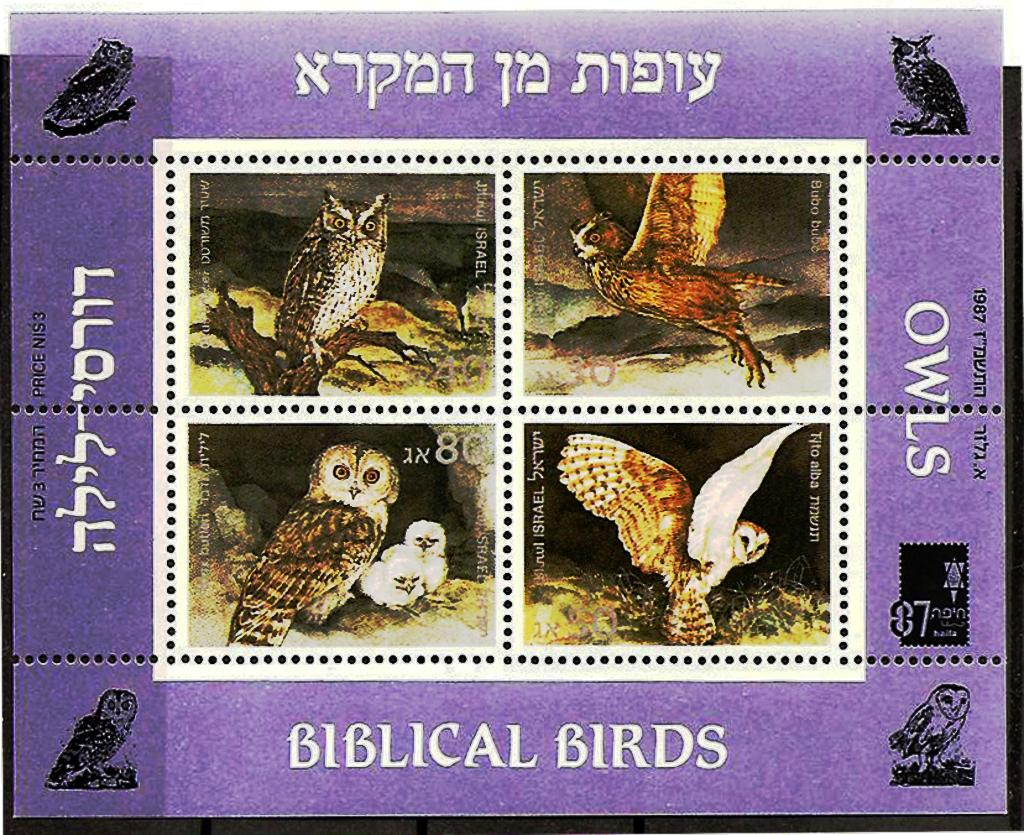Owl: (553, 427, 805, 646), (566, 174, 799, 390), (228, 442, 410, 644), (270, 186, 390, 378), (44, 689, 138, 783), (48, 35, 136, 134), (888, 684, 972, 776), (890, 37, 968, 135), (360, 544, 429, 608), (406, 515, 452, 596)
